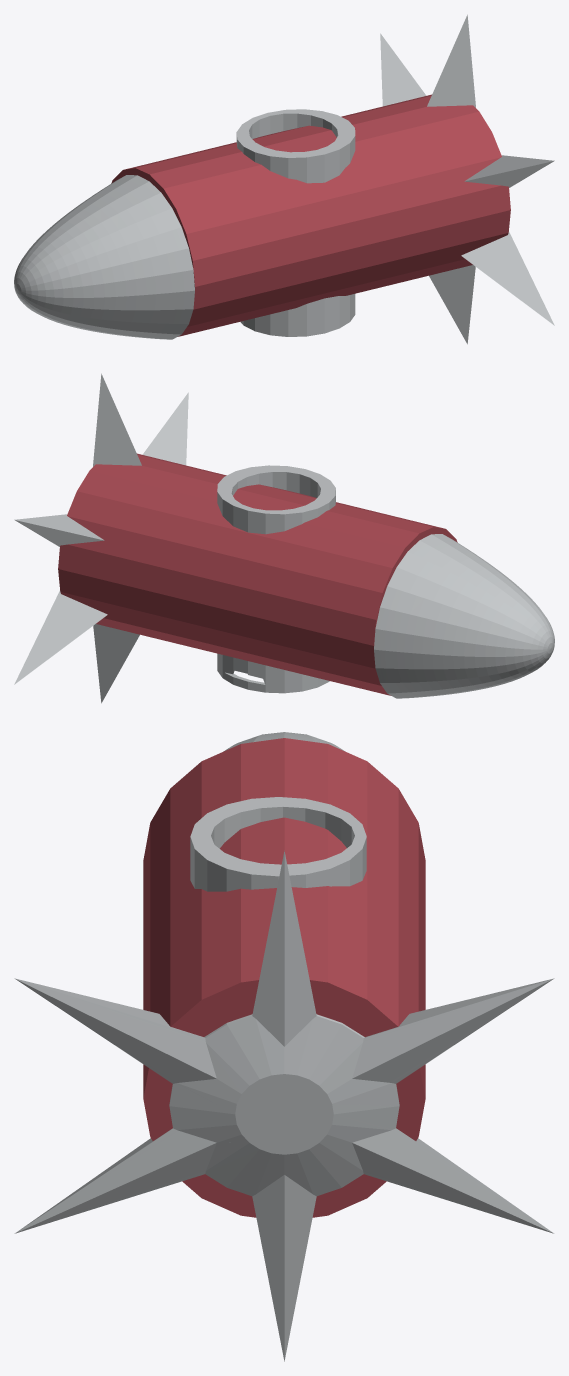
The model's file is Magnificent Kup (1).glb.
The picture shows the model from 3 angles, top to bottom: view 1: azimuth 30°, elevation 25°; view 2: azimuth 150°, elevation 25°; view 3: azimuth 270°, elevation 25°; orthographic projection. The views are drawn at different scales.
Visible parts, largest first — view 1: Mesh_Mesh_head_geo.001_lambert2SG.001; view 2: Mesh_Mesh_head_geo.001_lambert2SG.001; view 3: Mesh_Mesh_head_geo.001_lambert2SG.001.
Boxes of the visible parts, x1=… form: Mesh_Mesh_head_geo.001_lambert2SG.001: x1=14, y1=14, x2=554, y2=344; Mesh_Mesh_head_geo.001_lambert2SG.001: x1=14, y1=373, x2=554, y2=703; Mesh_Mesh_head_geo.001_lambert2SG.001: x1=14, y1=732, x2=554, y2=1361.
Size of the model in its own units: 70 by 48 by 46.
